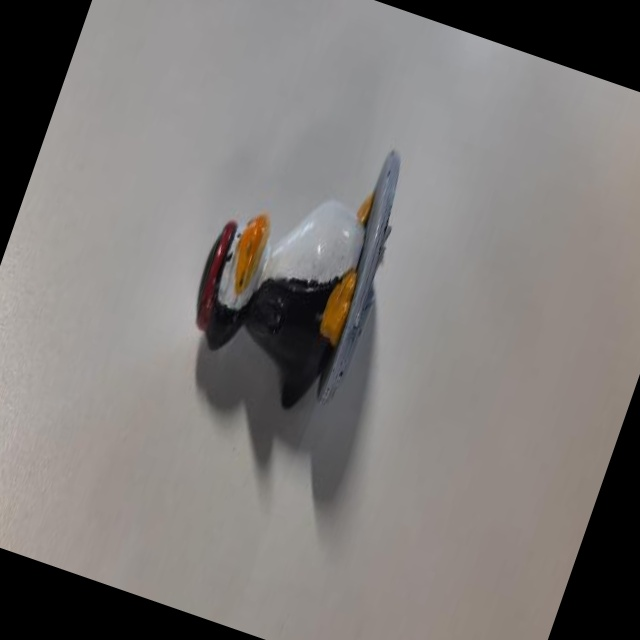Penguin: (157, 84, 430, 453)
